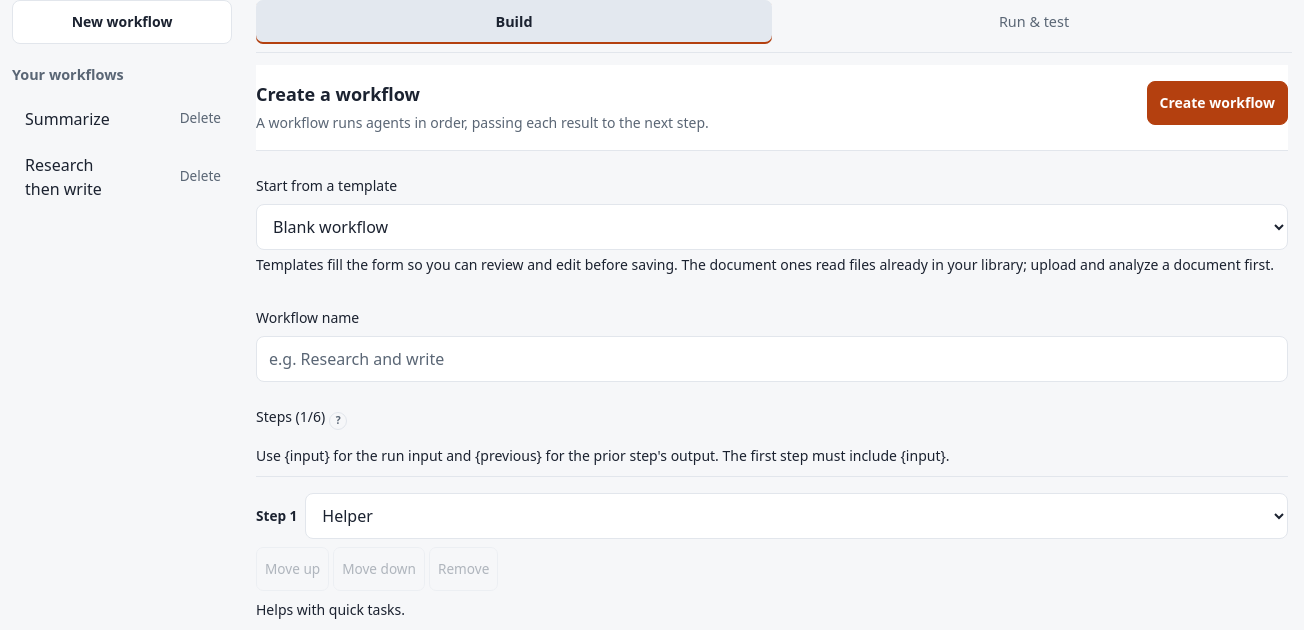
Test: WorkflowBuilder › protects a draft from item and template replacement and reports failed saves
Type "My draft" into the field labelled "Workflow name" at (772, 359), box [256, 336, 1288, 382]
(page scrolled)
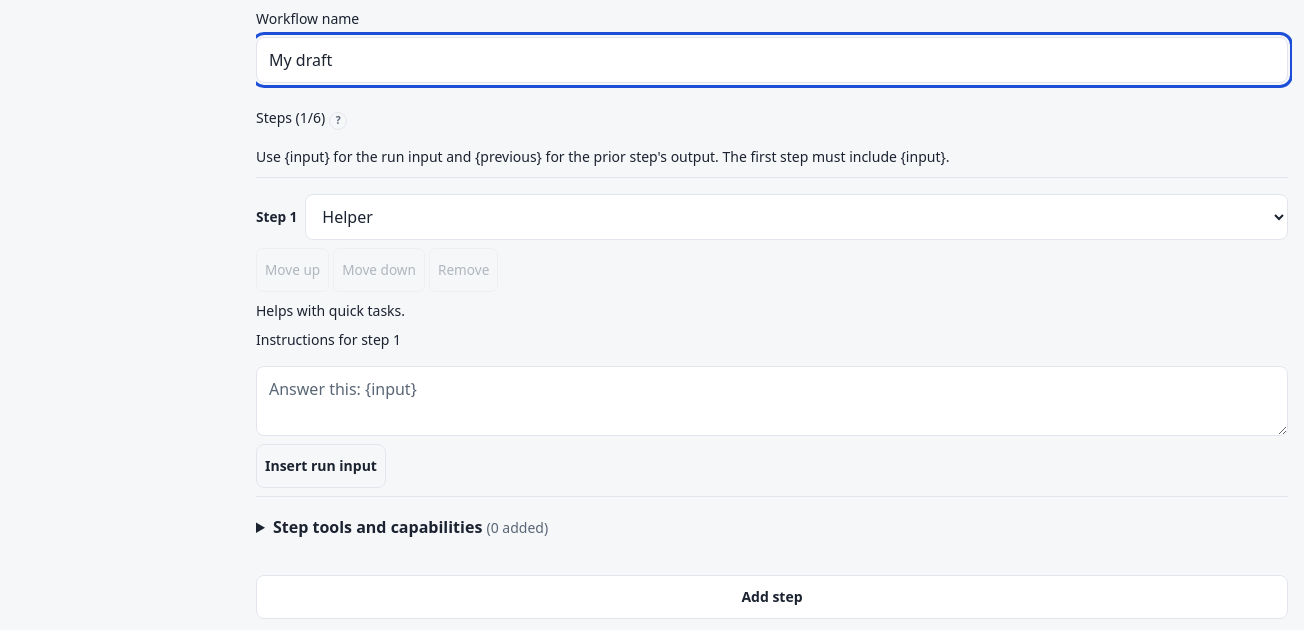
Click the button "Insert run input" at (321, 466), box [256, 444, 386, 488]
(page scrolled)
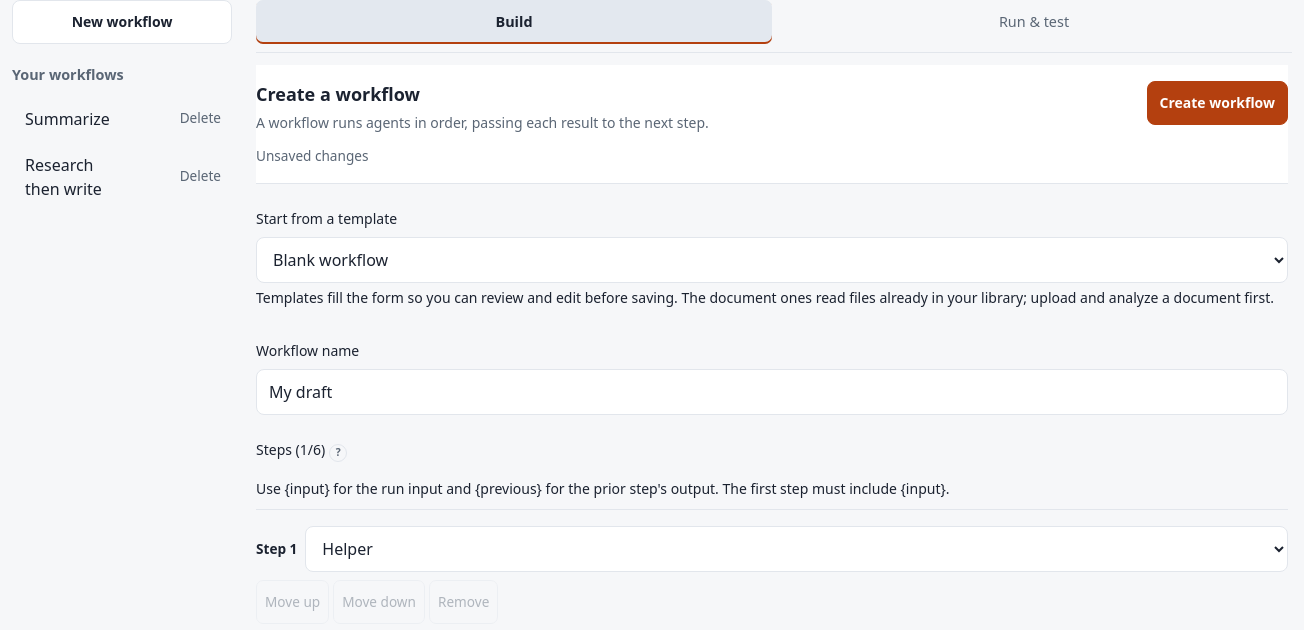
Click the button "Summarize" at (93, 119), box [15, 97, 172, 141]
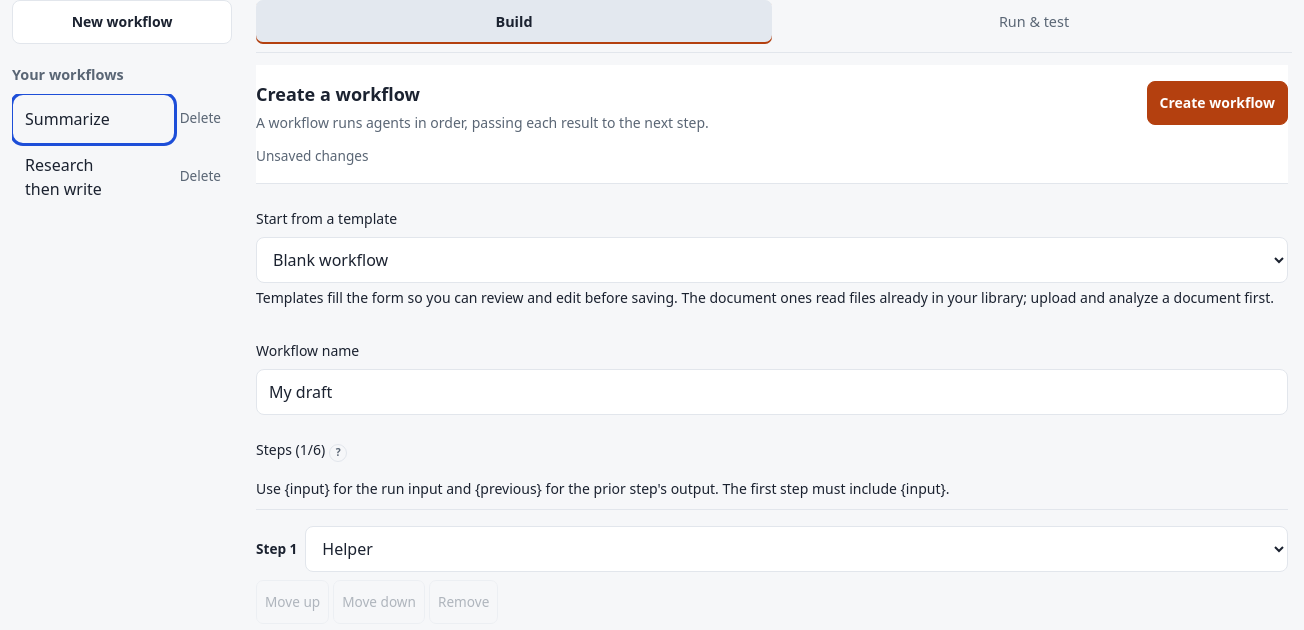
Select "Extract from scans (Mistral OCR)" in the dropdown labelled "Start from a template" at (772, 260), box [256, 237, 1288, 283]
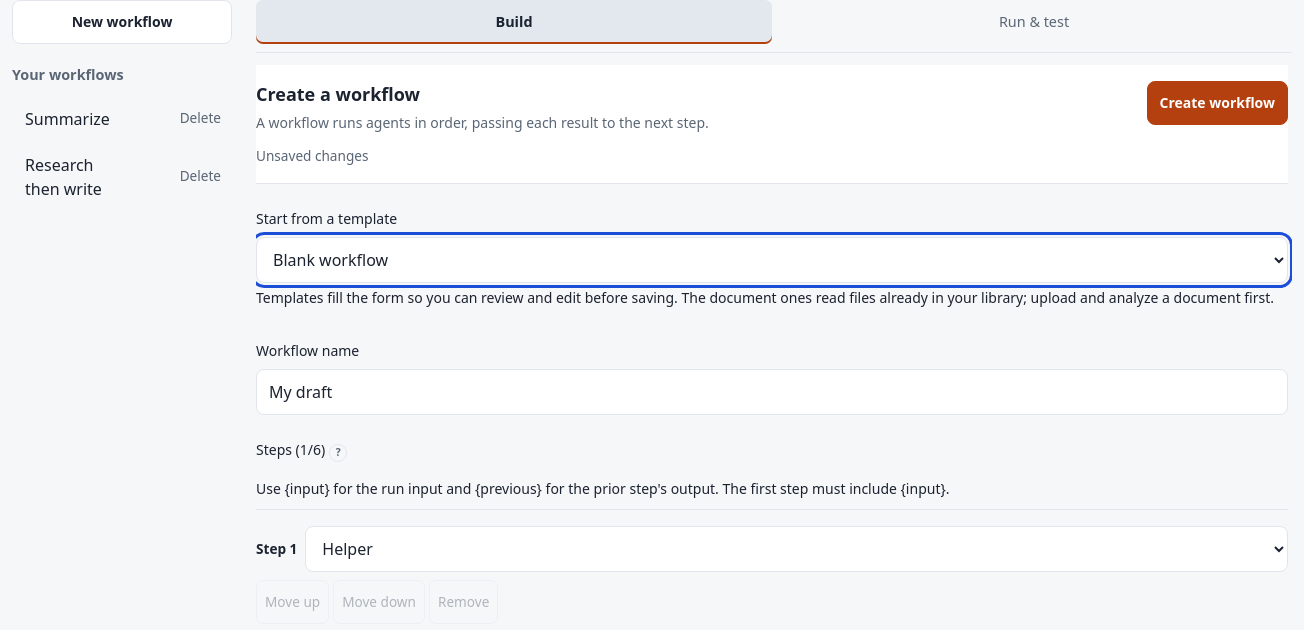
Click the button "Create workflow" at (1217, 103), box [1146, 81, 1288, 125]
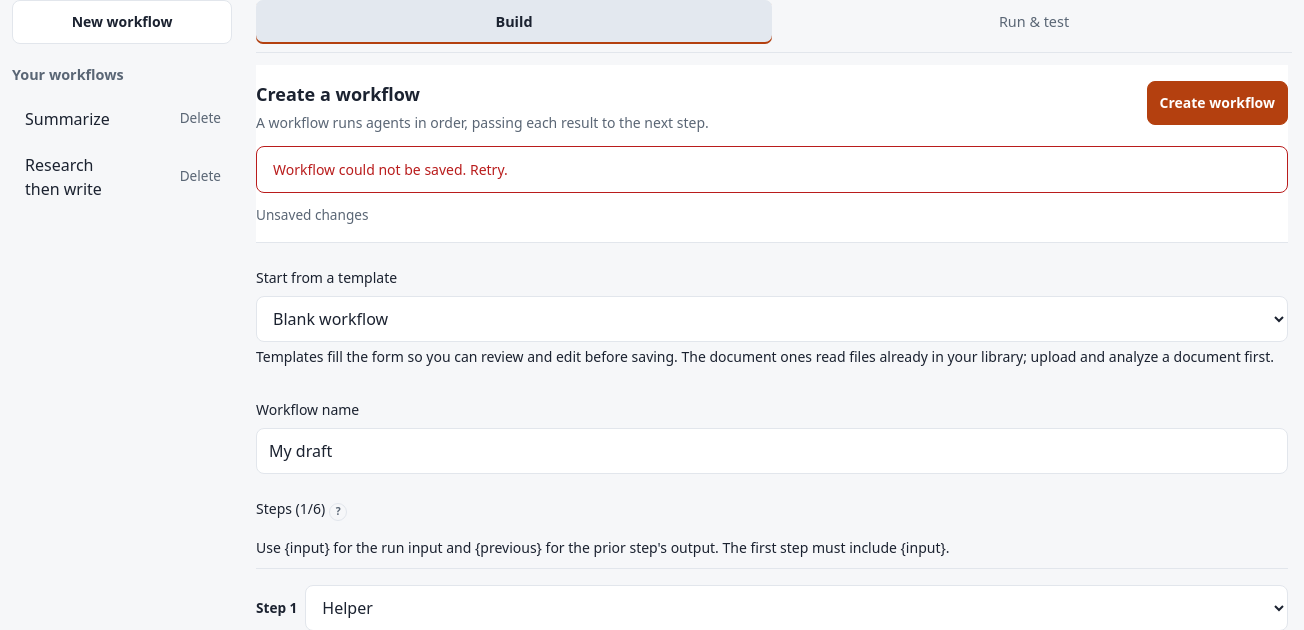
Expected: the message "Workflow could not be saved. Retry." is shown, [256, 146, 1288, 193]
